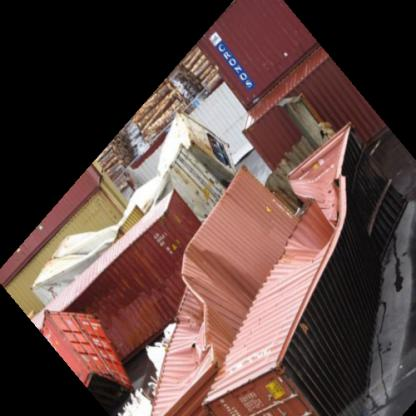Damage: (158, 166, 250, 384), (278, 134, 362, 271)
